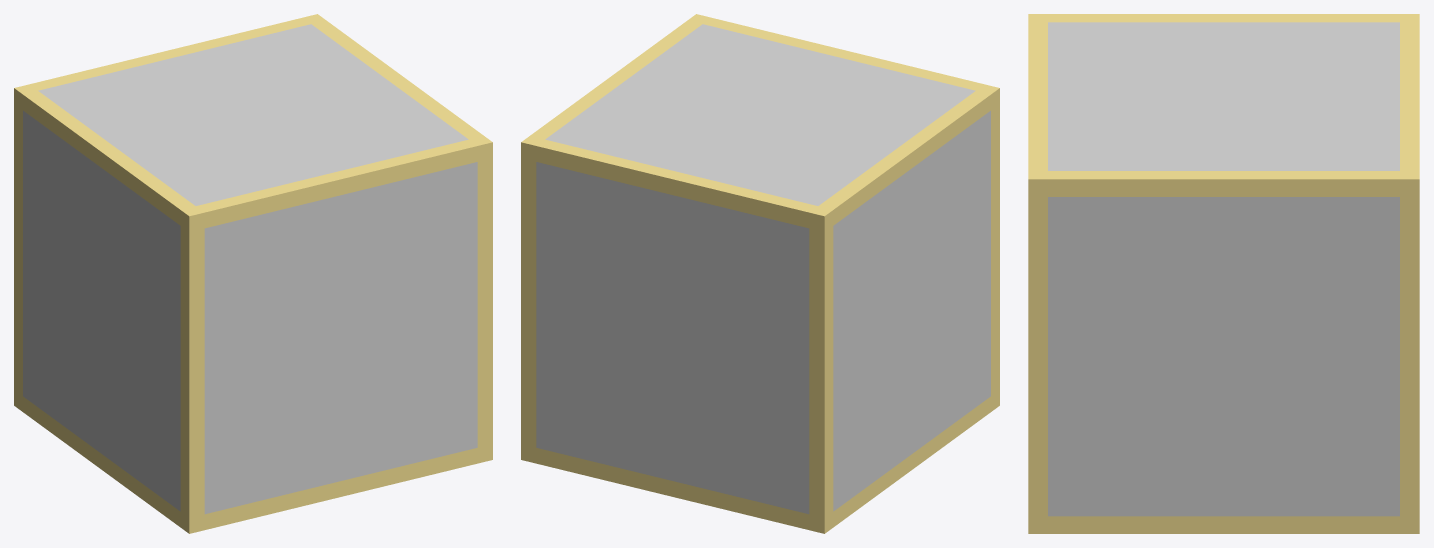
File: ThunderBox.fbx
The picture shows the model from 3 angles, left to right: view 1: azimuth 30°, elevation 25°; view 2: azimuth 150°, elevation 25°; view 3: azimuth 270°, elevation 25°; orthographic projection. The views are drawn at different scales.
Parts seen in each view (by area): view 1: 立方体; view 2: 立方体; view 3: 立方体.
Boxes of the visible parts, x1,y1,x2,y2 form: 立方体: [14, 14, 492, 533]; 立方体: [521, 14, 999, 533]; 立方体: [1028, 14, 1419, 533].
Bounding box in the file's own units: 200 × 200 × 200.
